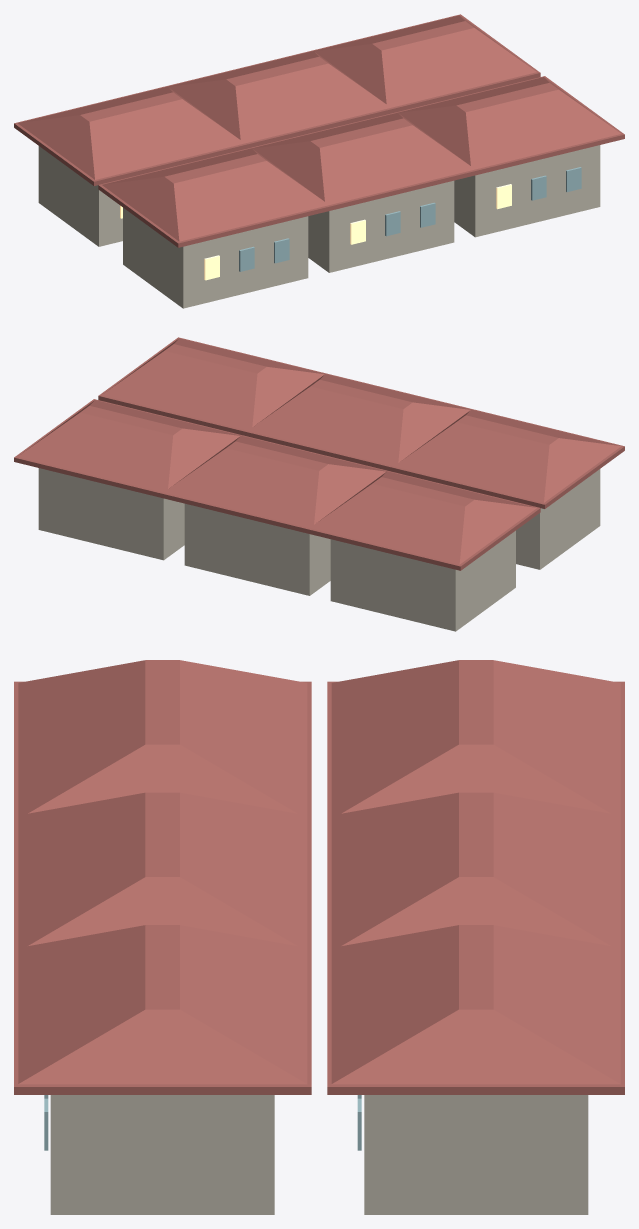
The model's file is village.glb.
The picture shows the model from 3 angles, top to bottom: view 1: azimuth 30°, elevation 25°; view 2: azimuth 150°, elevation 25°; view 3: azimuth 270°, elevation 25°; orthographic projection. The views are drawn at different scales.
Parts seen in each view (by area): view 1: village; view 2: village; view 3: village.
Boxes of the visible parts, left/top/right/bottom form: village: left=14, top=14, right=624, bottom=308; village: left=14, top=337, right=624, bottom=631; village: left=14, top=660, right=624, bottom=1214.
Size of the model in its own units: 21.42 by 4.7 by 13.64.
